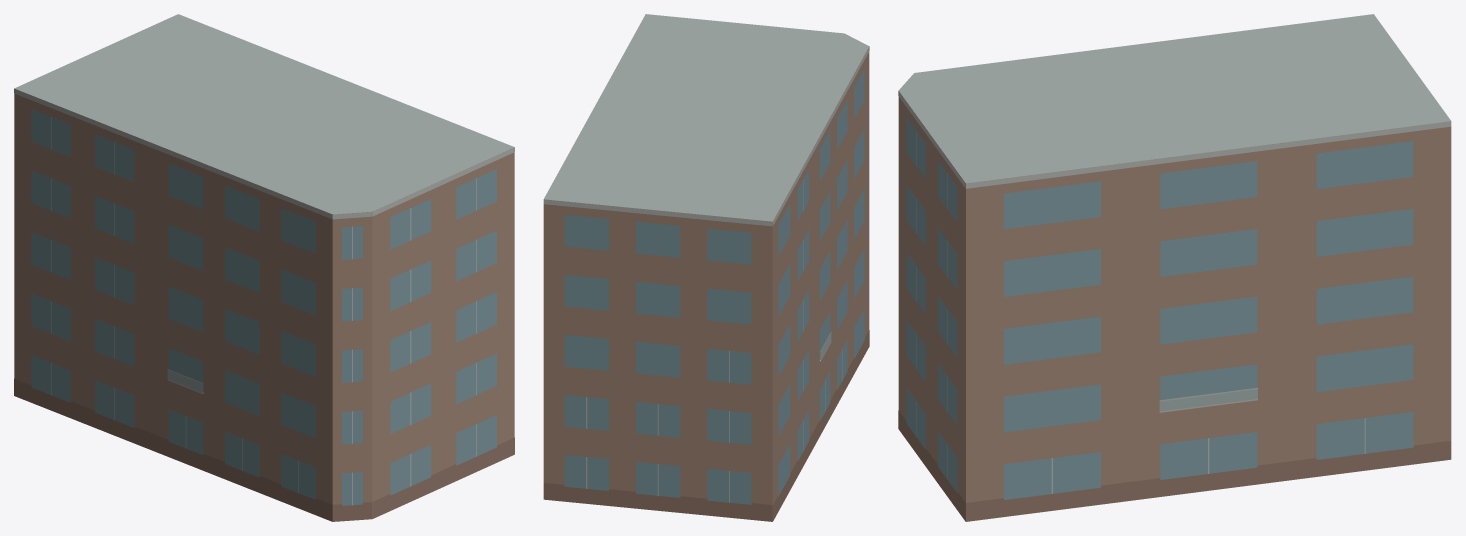
Rendered from survey-upis-32972807.glb.
3 renders of one model, left to right at view 1: azimuth 30°, elevation 25°; view 2: azimuth 150°, elevation 25°; view 3: azimuth 270°, elevation 25°, orthographic. The views are drawn at different scales.
Visible parts, largest first — view 1: survey-upis-32972807.tmp; view 2: survey-upis-32972807.tmp; view 3: survey-upis-32972807.tmp.
Boxes of the visible parts, <box> form: survey-upis-32972807.tmp: <box>14,14,514,521</box>; survey-upis-32972807.tmp: <box>543,14,869,521</box>; survey-upis-32972807.tmp: <box>898,14,1451,521</box>.
Bounding box in the file's own units: 16.33 × 15.2 × 22.51.
